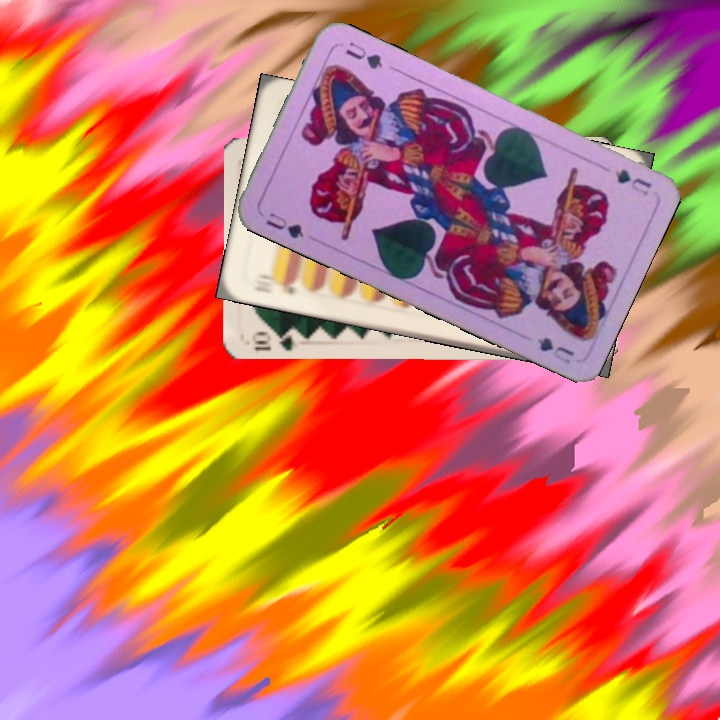E10: (251, 276, 300, 297)
G10: (248, 326, 304, 353)
GU: (262, 208, 307, 242), (610, 165, 655, 198)
